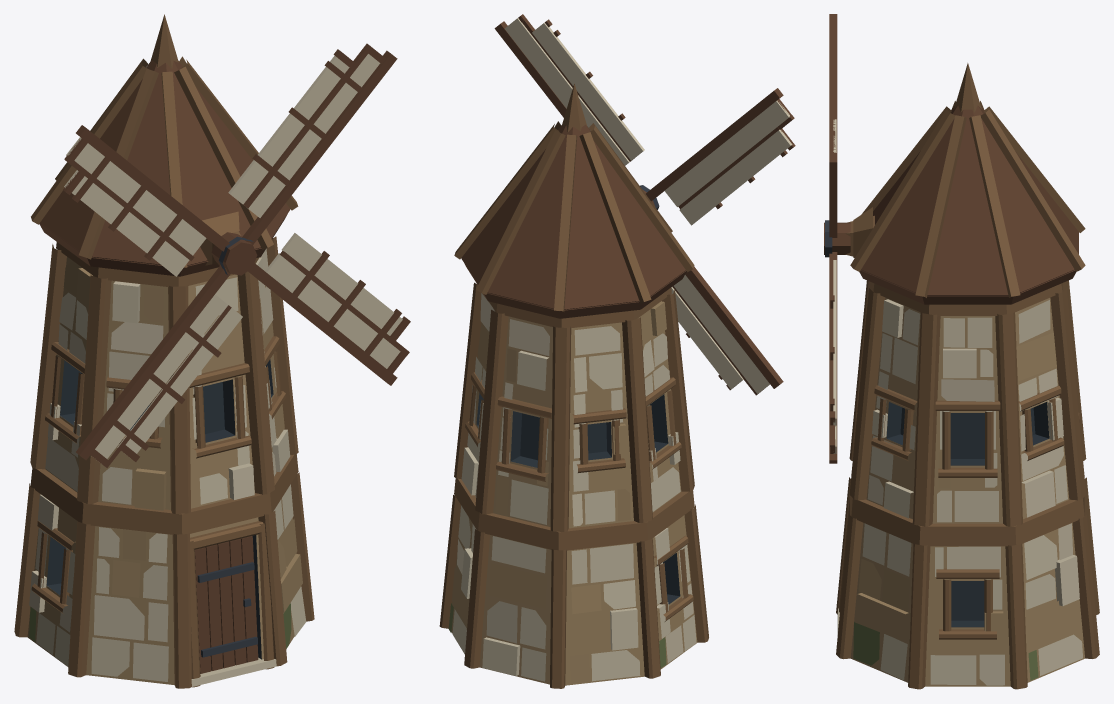
File: windmill-3aad49.glb
The picture shows the model from 3 angles, left to right: view 1: azimuth 30°, elevation 25°; view 2: azimuth 150°, elevation 25°; view 3: azimuth 270°, elevation 25°; orthographic projection. The views are drawn at different scales.
Visible parts, largest first — view 1: mill-shell, sails-mesh, door-mesh; view 2: mill-shell, sails-mesh; view 3: mill-shell, sails-mesh.
Part boxes in pixels (<box>): mill-shell: <box>14,14,314,688</box>; sails-mesh: <box>63,43,410,467</box>; door-mesh: <box>194,536,258,673</box>; mill-shell: <box>439,83,708,688</box>; sails-mesh: <box>494,14,795,395</box>; mill-shell: <box>836,63,1099,689</box>; sails-mesh: <box>824,14,850,463</box>.
Bounding box in the file's own units: 5.65 × 9.6 × 4.18.
